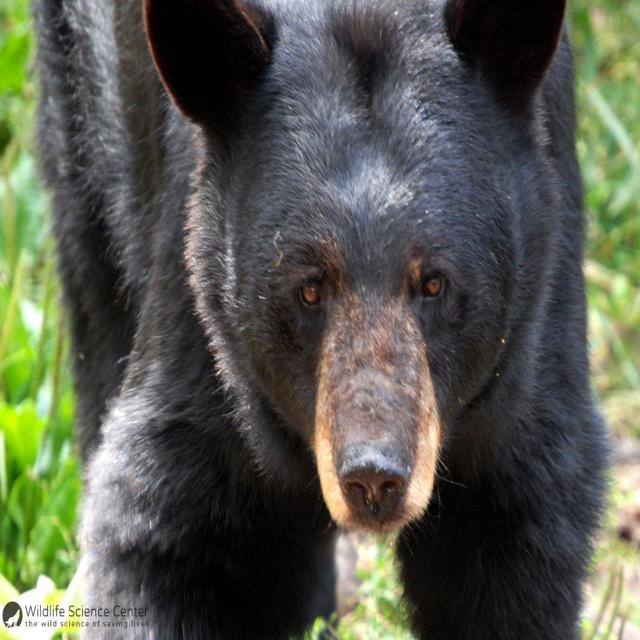Bear: (29, 0, 613, 640)
